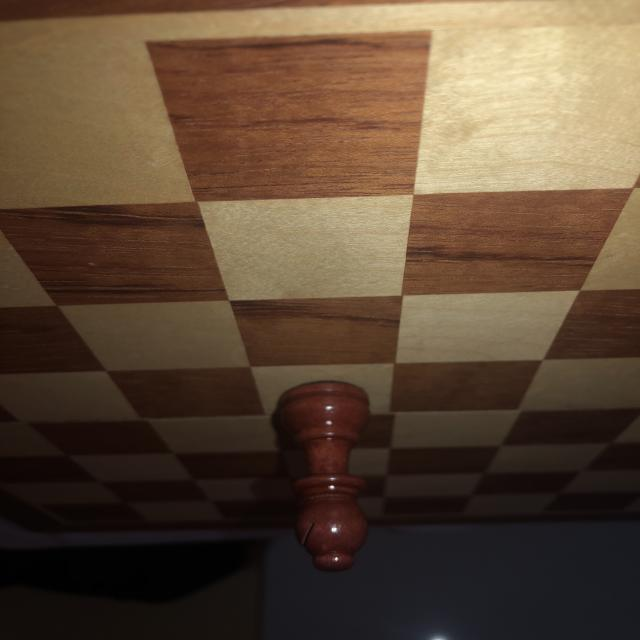black_bishop: (281, 380, 369, 574)
